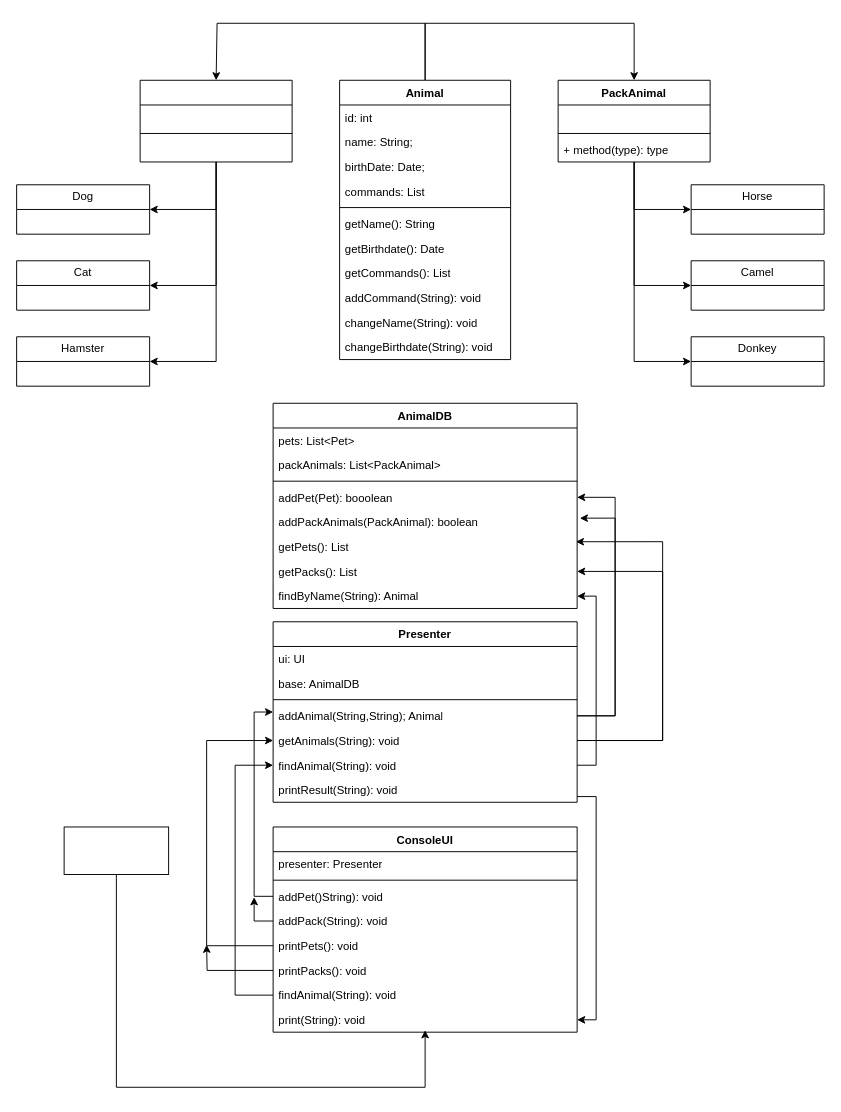
The diagram is 841 pixels wide and 1112 high, and some of its shapes have lost their labels. Each missing label, with the centre of its shape:
Pet: point 215,120
«interface» UI: point 116,850
